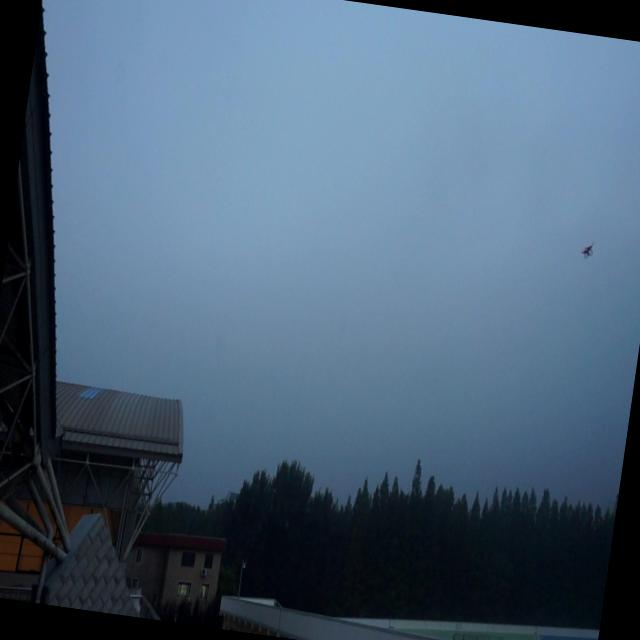drone: (579, 239, 597, 265)
